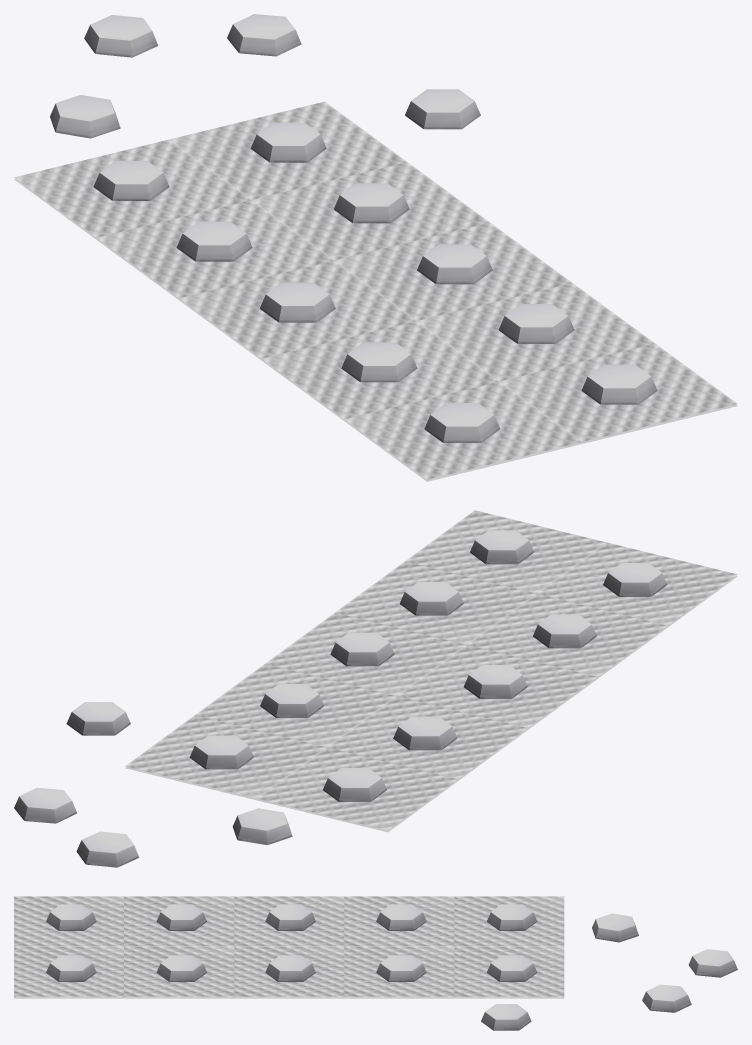
Rendered from TouKuiZheJia_01_yaopian_01.FBX.
The picture shows the model from 3 angles, top to bottom: view 1: azimuth 30°, elevation 25°; view 2: azimuth 150°, elevation 25°; view 3: azimuth 270°, elevation 25°; orthographic projection. The views are drawn at different scales.
Parts seen in each view (by area): view 1: TouKuiZheJia_yaopian_01; view 2: TouKuiZheJia_yaopian_01; view 3: TouKuiZheJia_yaopian_01.
Boxes of the visible parts, bbox=[...] form: TouKuiZheJia_yaopian_01: bbox=[14, 14, 737, 481]; TouKuiZheJia_yaopian_01: bbox=[14, 510, 737, 867]; TouKuiZheJia_yaopian_01: bbox=[14, 896, 737, 1030].
Size of the model in its own units: 46.46 by 1.77 by 106.
